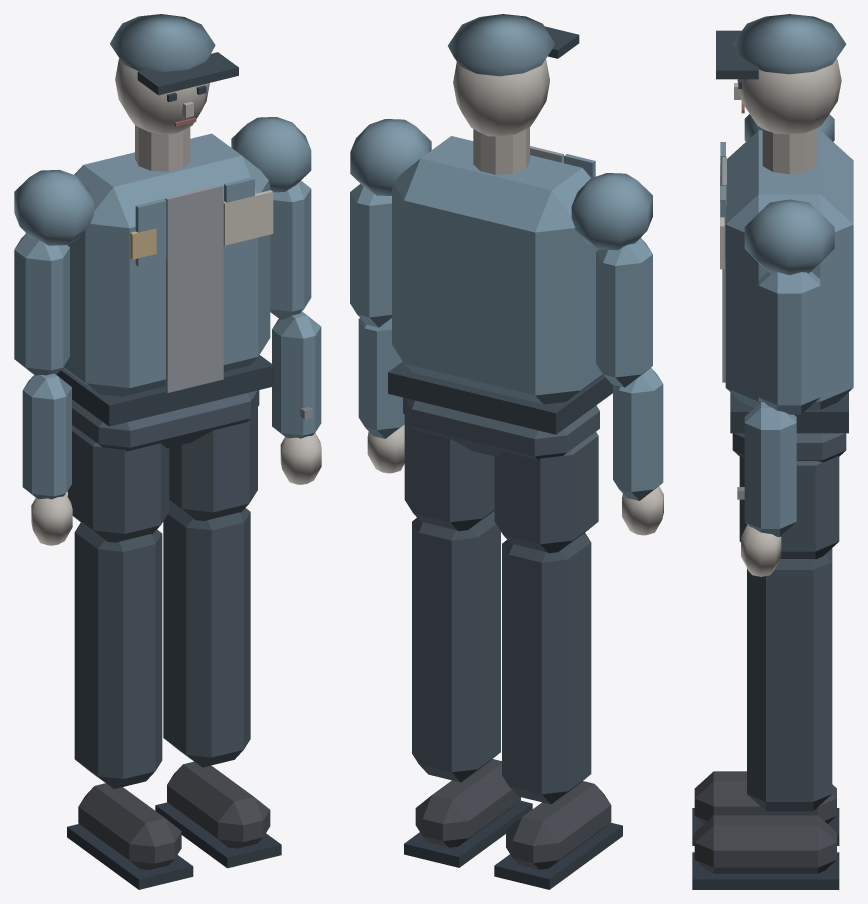
The model's file is personaje_guard.glb.
3 renders of one model, left to right at view 1: azimuth 30°, elevation 25°; view 2: azimuth 150°, elevation 25°; view 3: azimuth 270°, elevation 25°, orthographic. The views are drawn at different scales.
Size of the model in its own units: 0.72 by 1.94 by 0.34.
